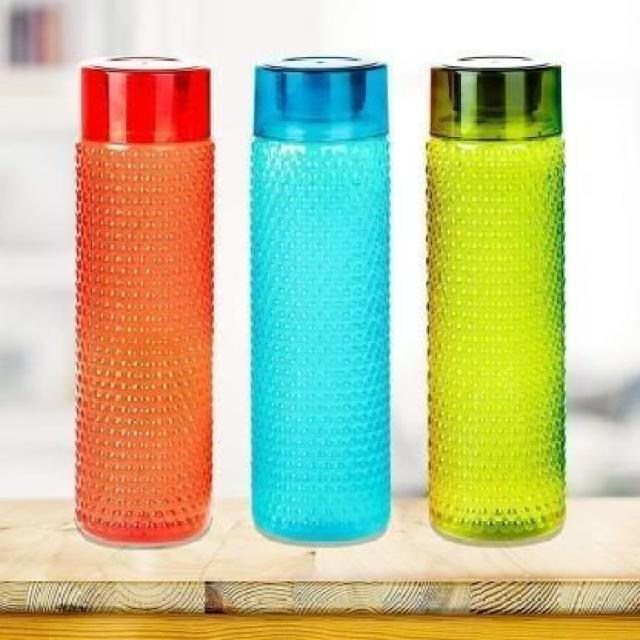gym bottle: (242, 43, 398, 551), (67, 43, 222, 554), (417, 45, 572, 549)
